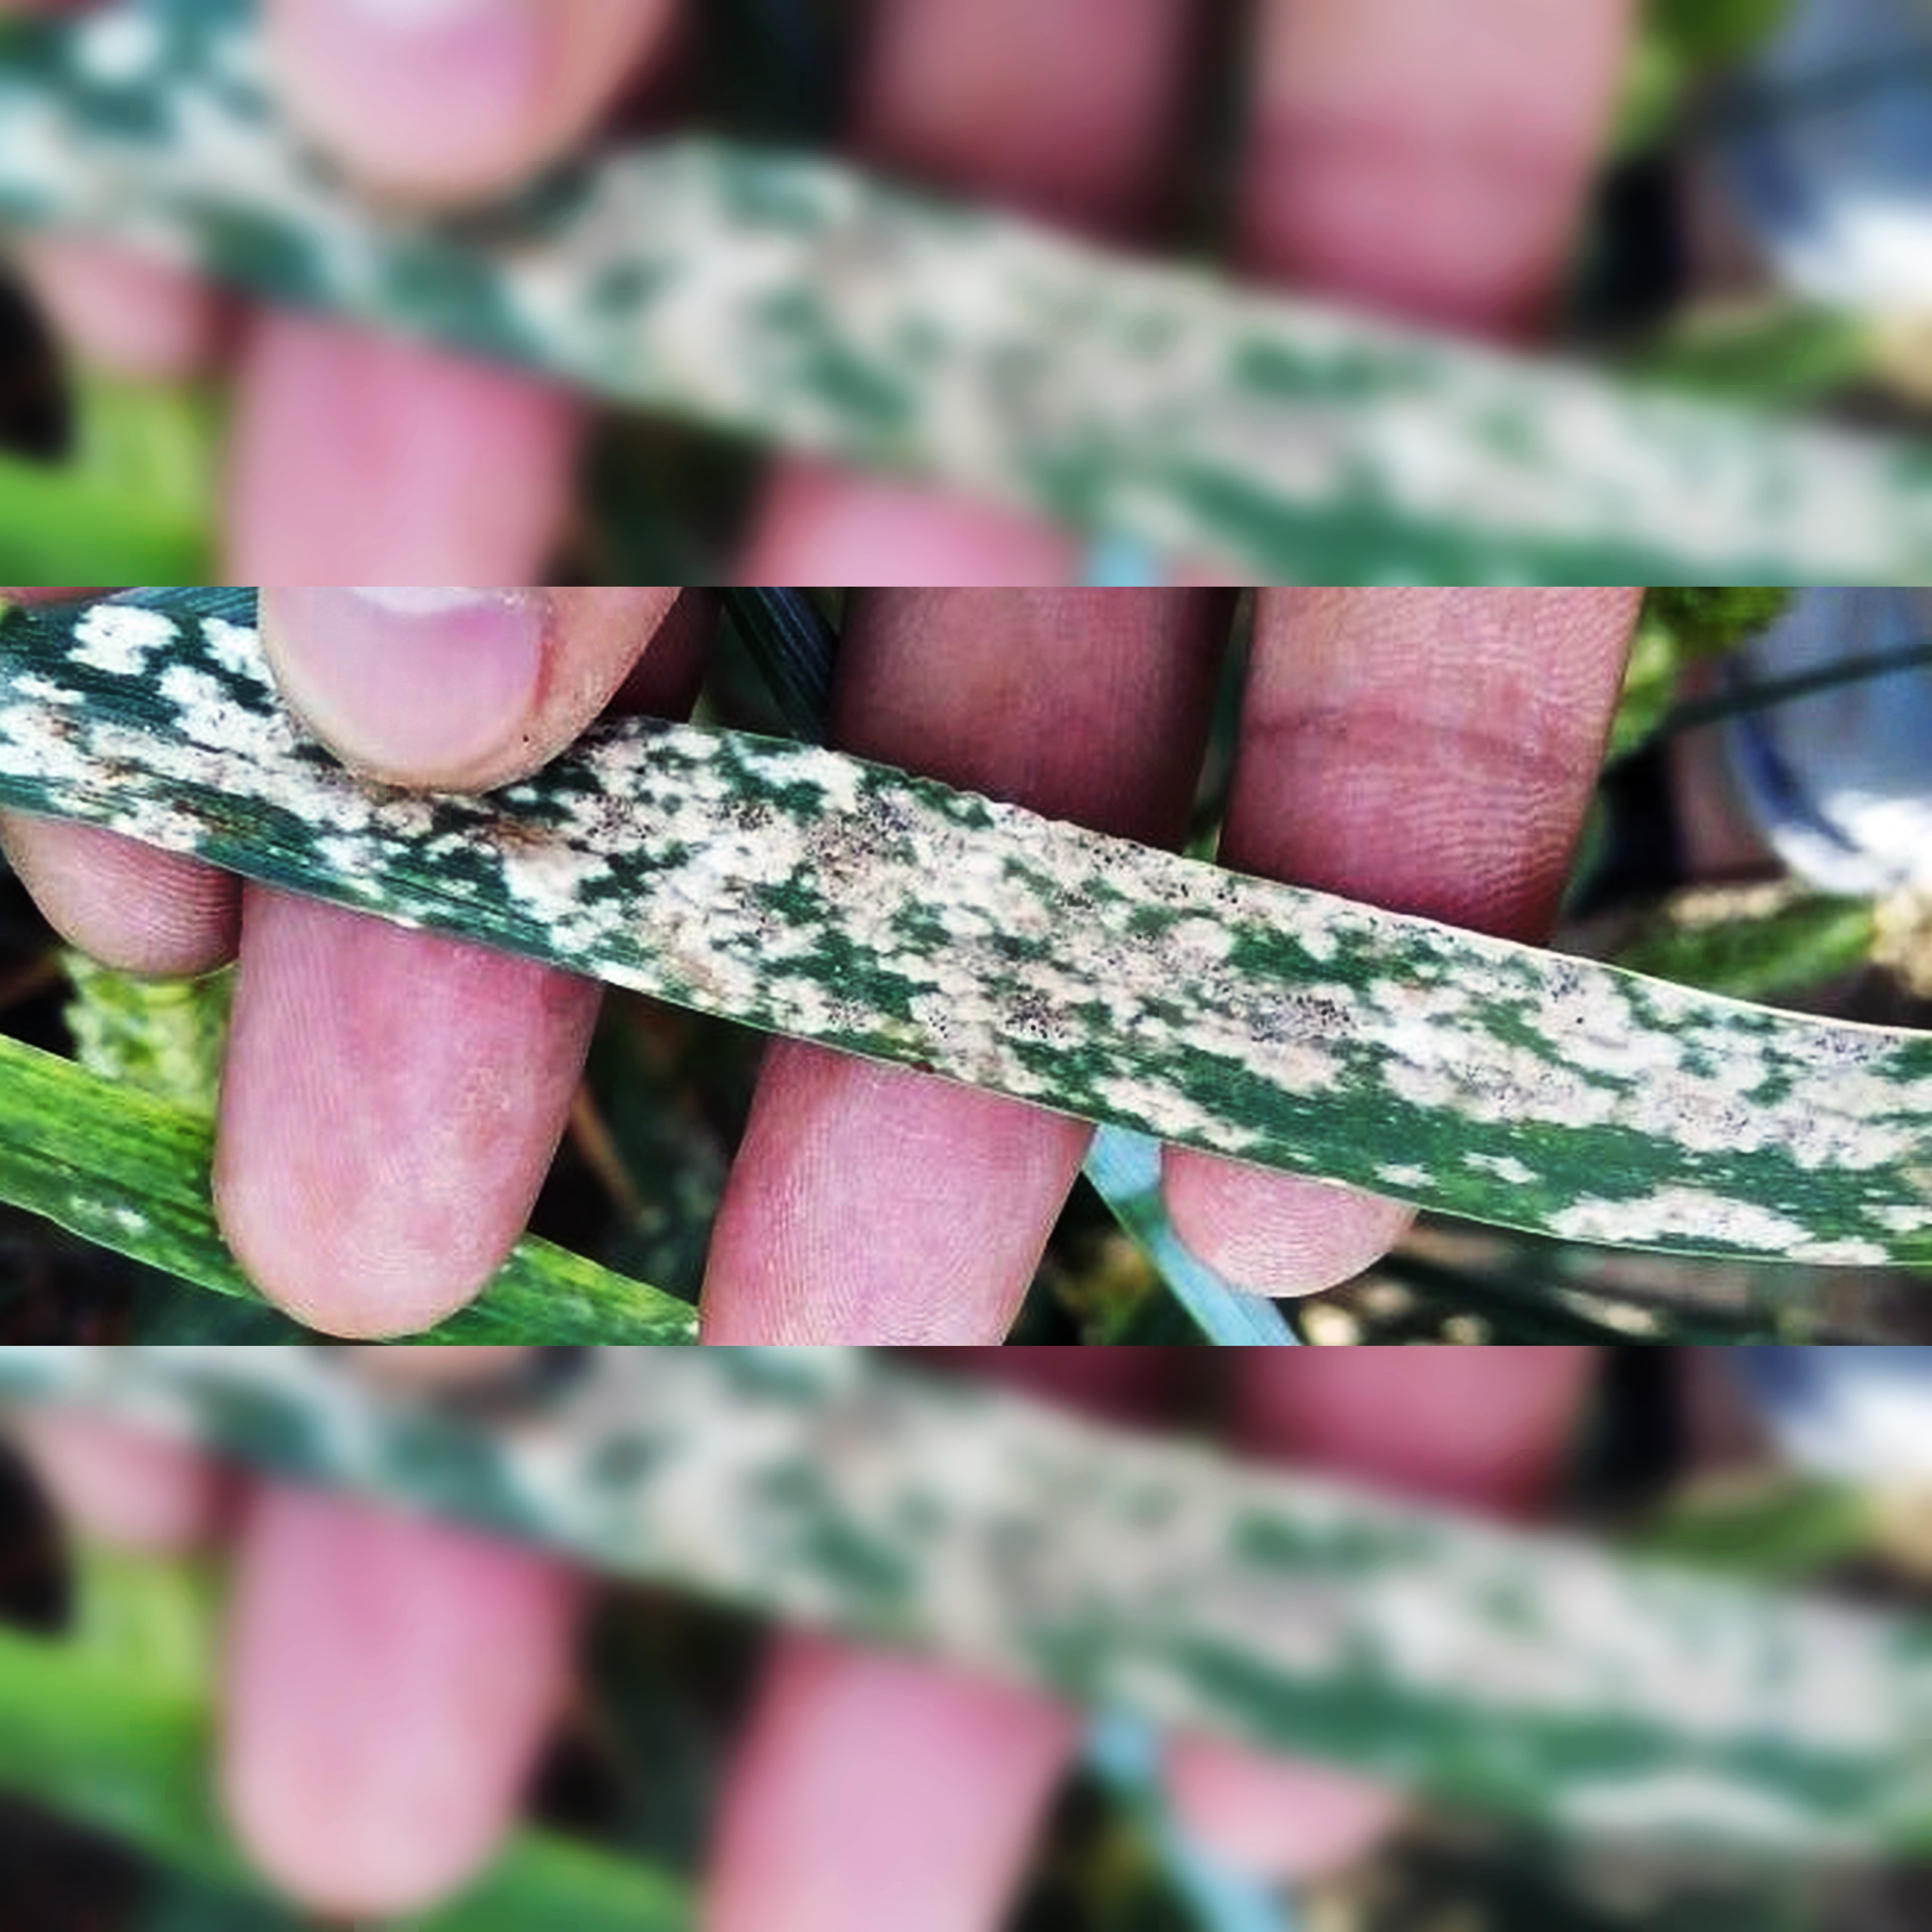Powdery Mildew: (591, 734, 1932, 1295)
